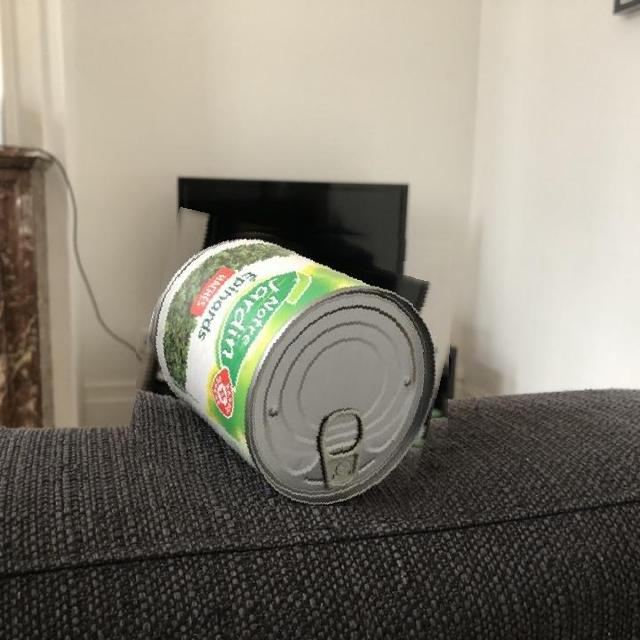recyclable: (136, 222, 452, 506)
